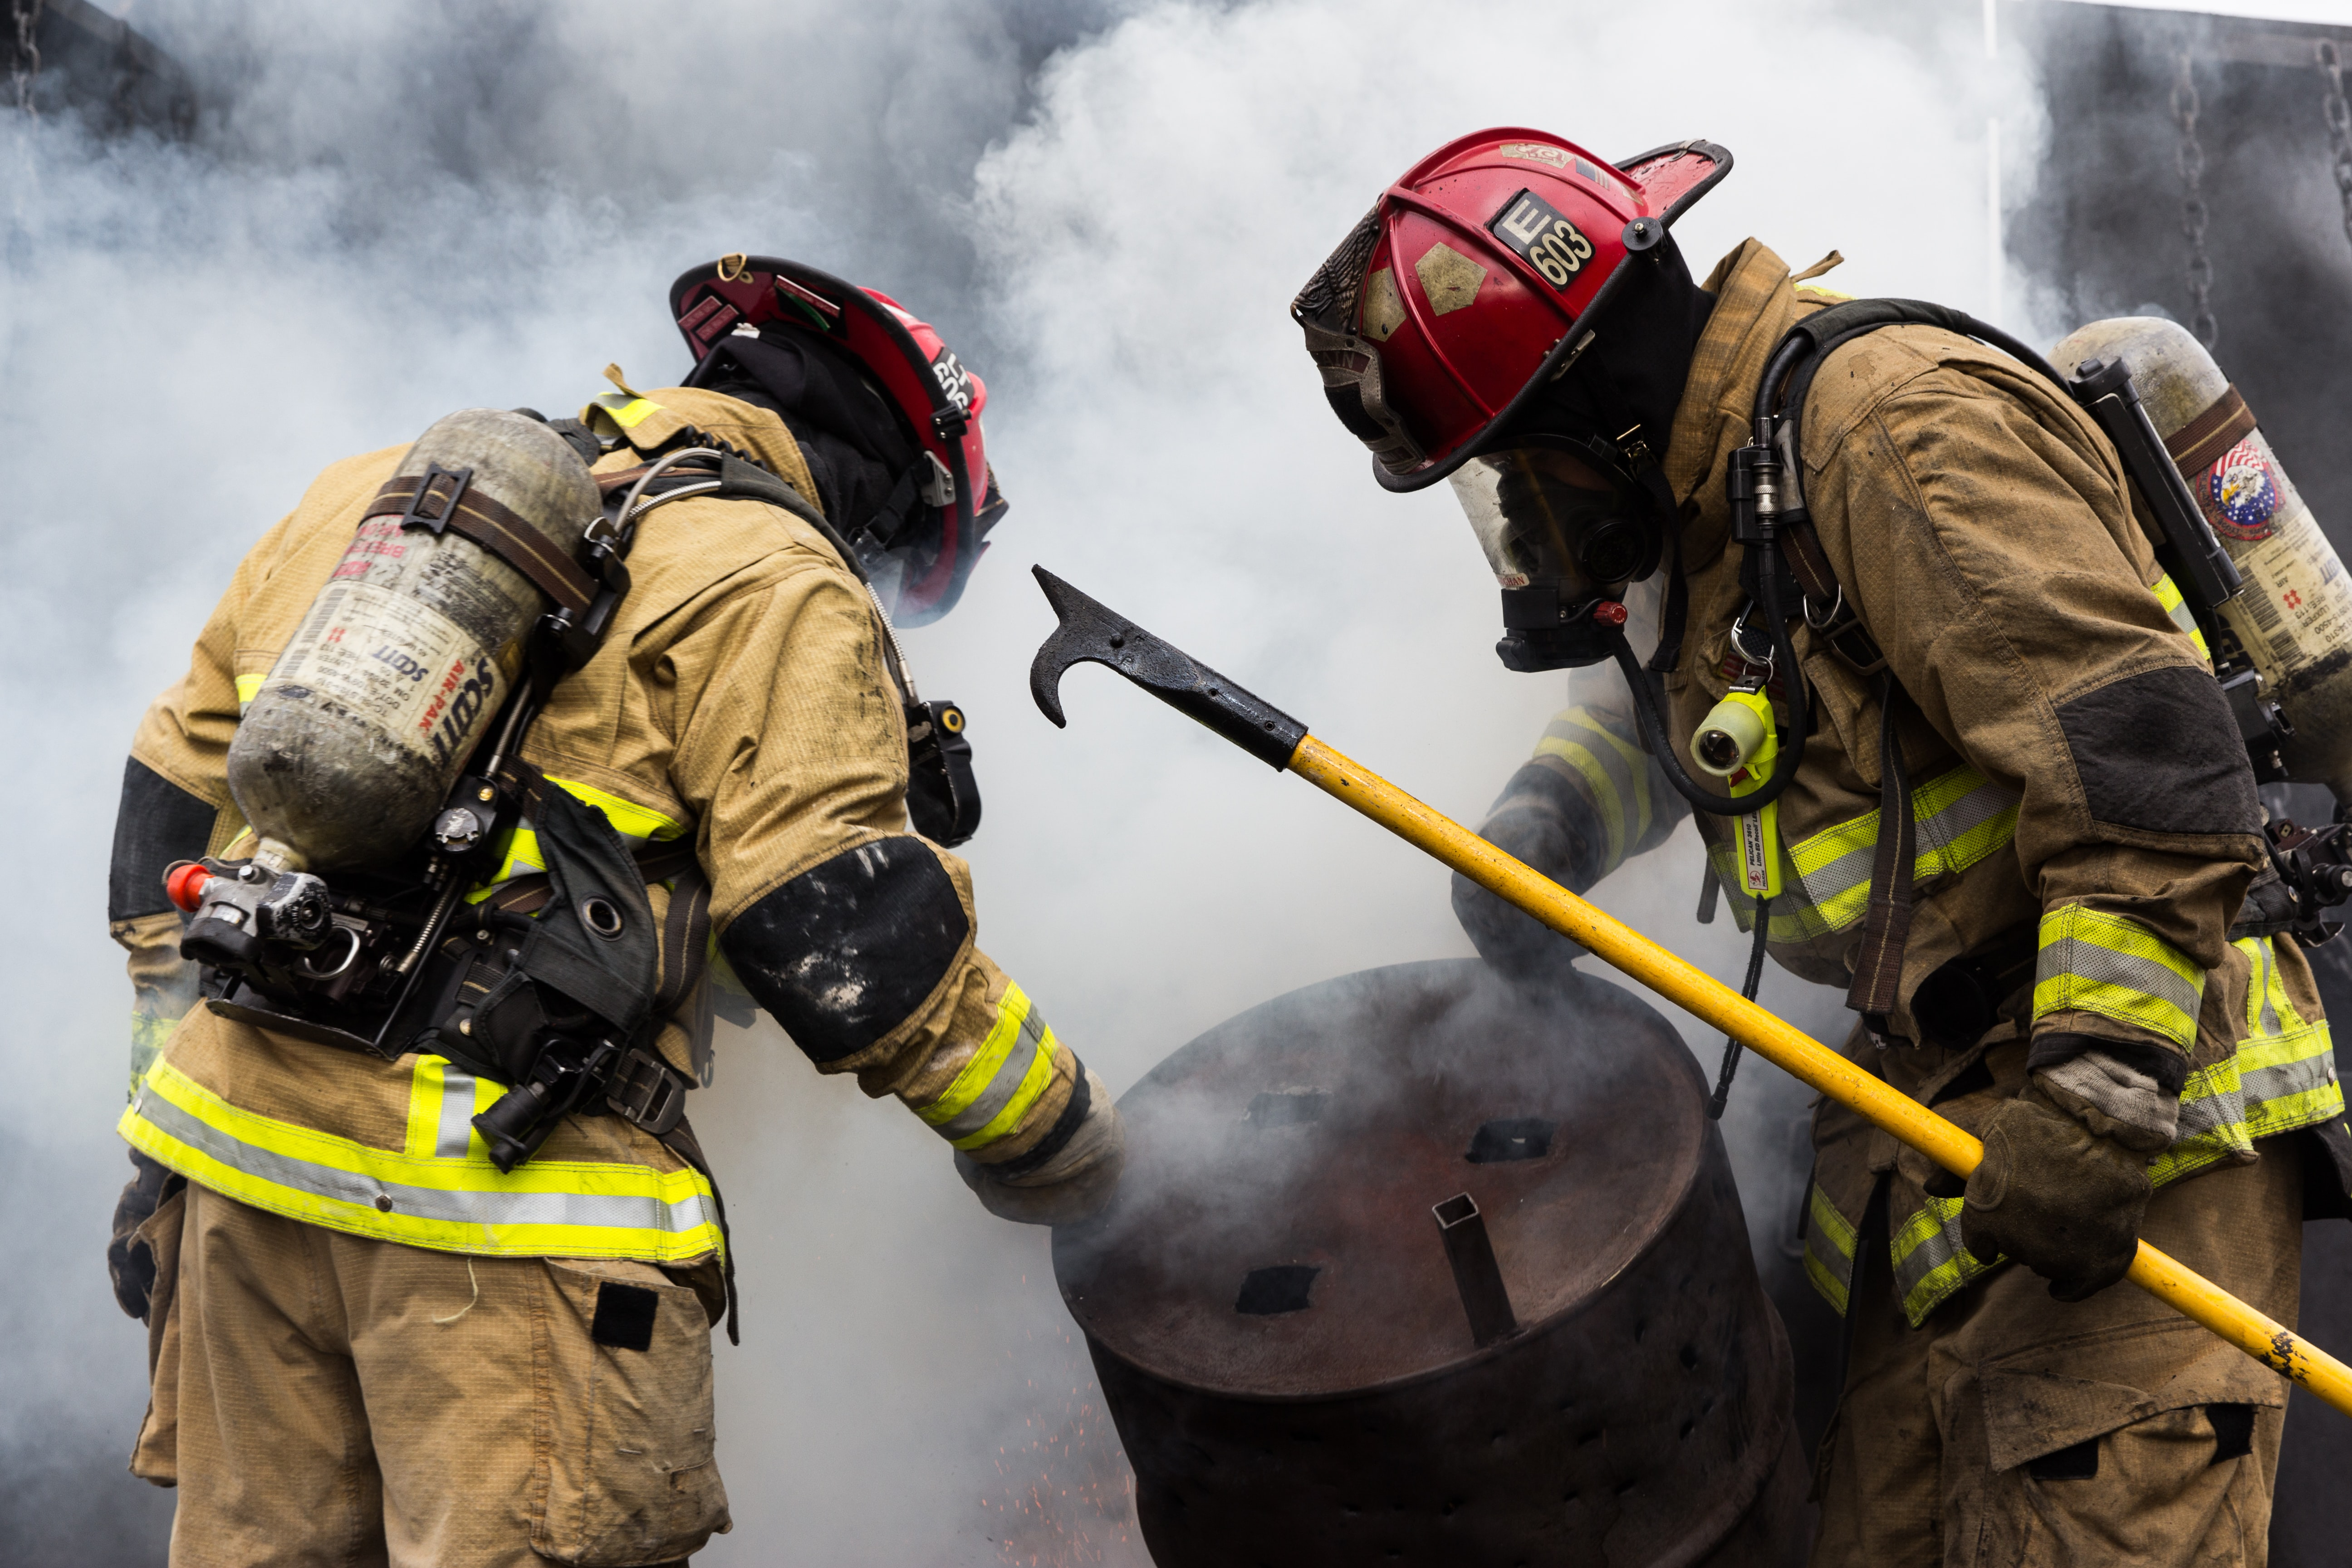emergent: (1311, 133, 2345, 1568), (126, 240, 970, 1568)
